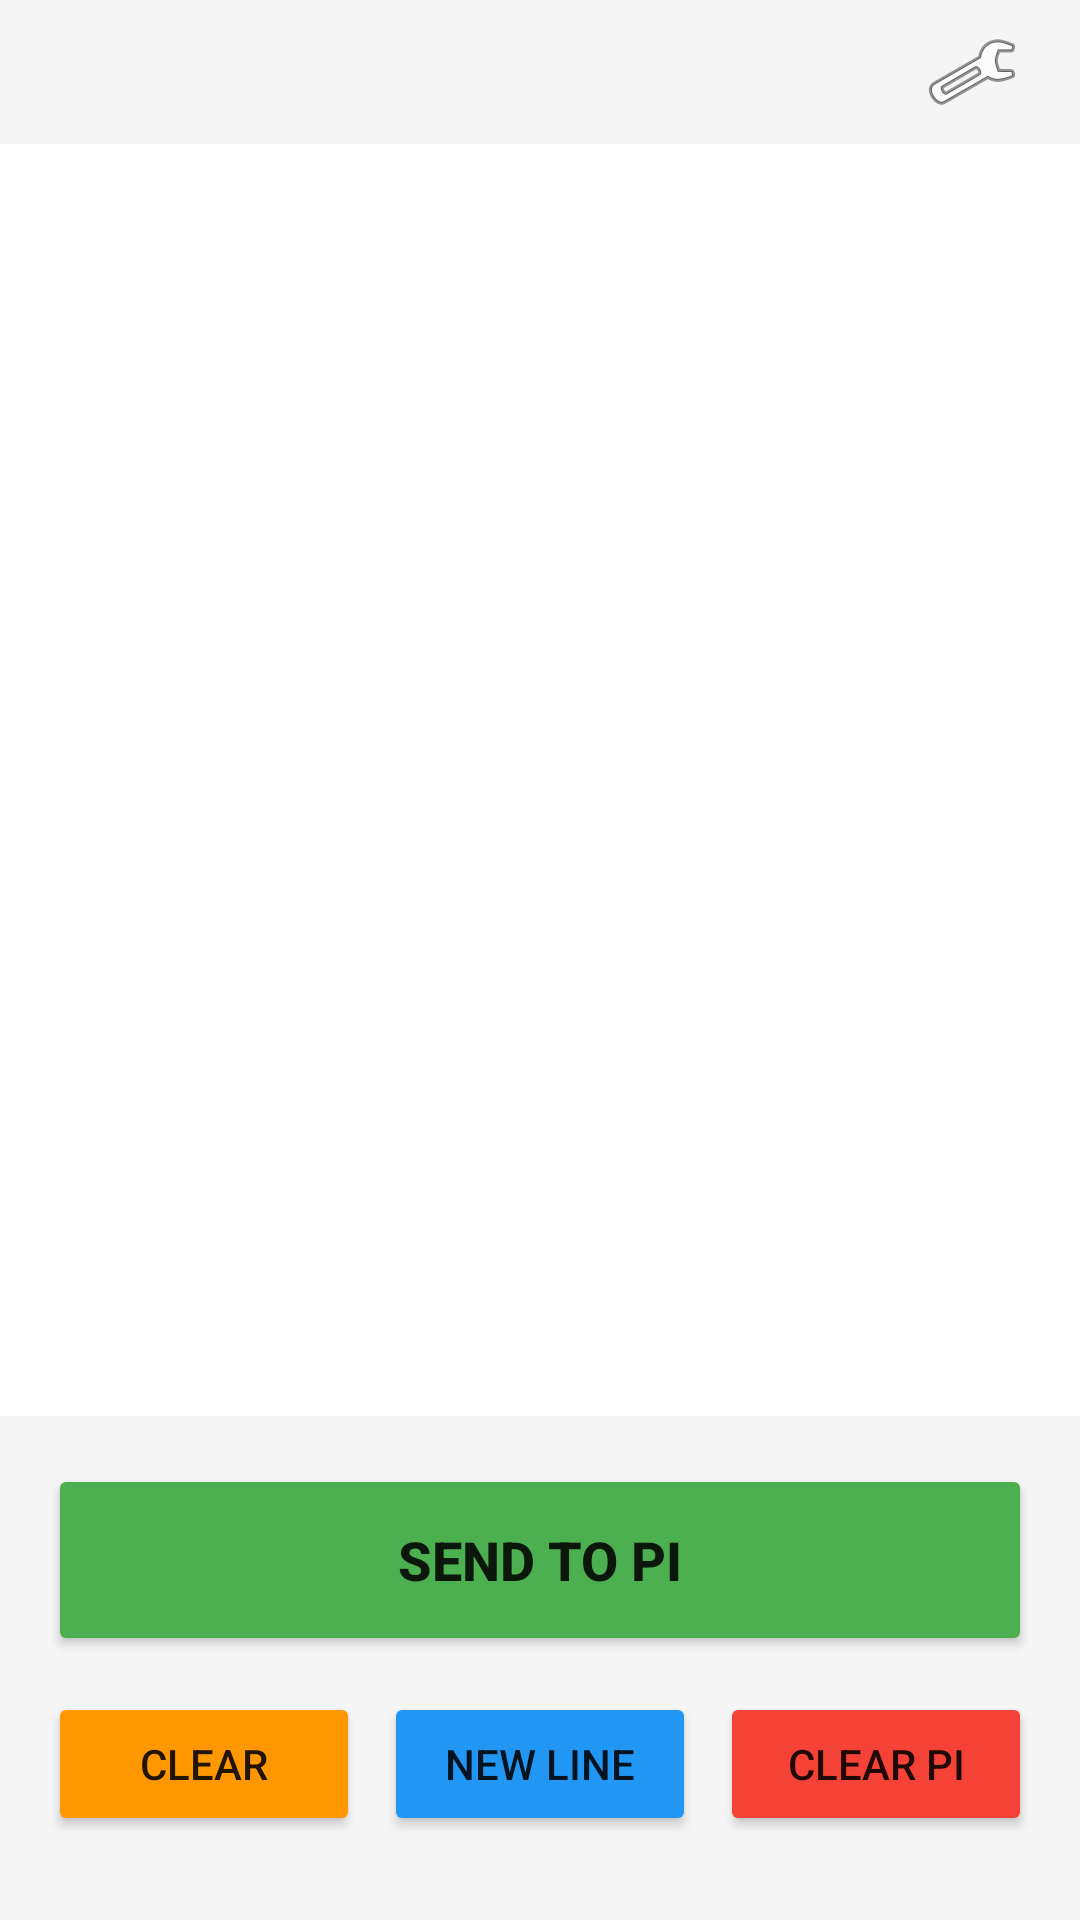

Locate icon controls on the screen. Image size 1080 x 1920, boxes as rect(x1, y1, x2, y2).
Settings: rect(929, 39, 1015, 105)
